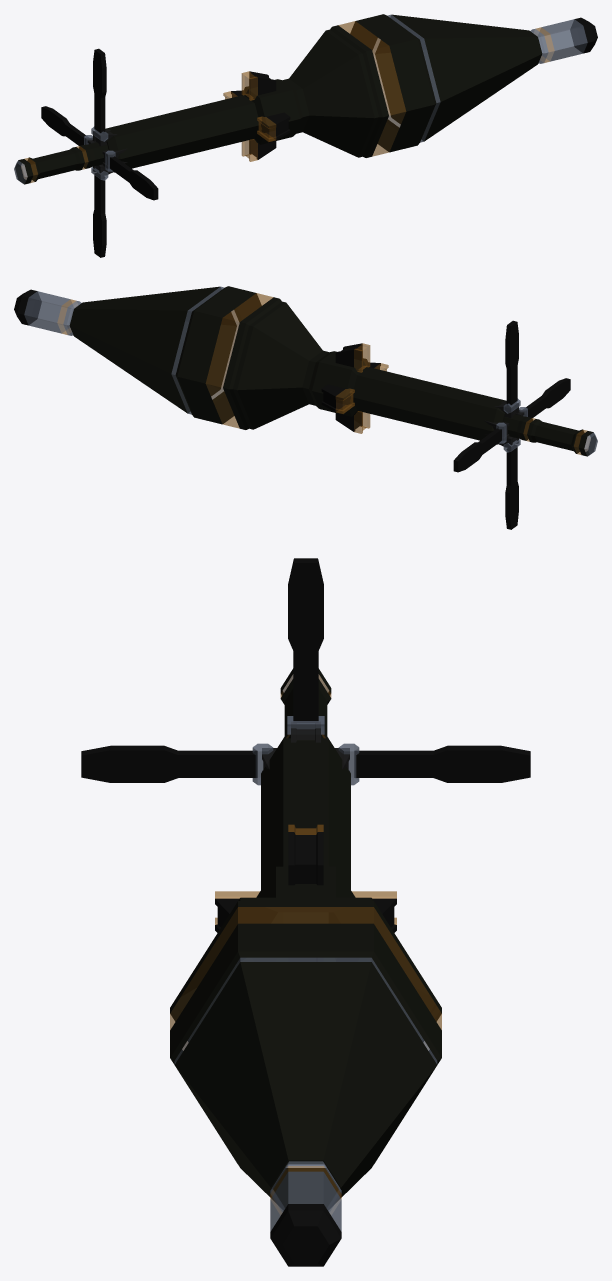
The model's file is rocket-launcher-projectile.obj.
3 views of the same model, one above another, from view 1: azimuth 30°, elevation 25°; view 2: azimuth 150°, elevation 25°; view 3: azimuth 270°, elevation 25° (orthographic). The views are drawn at different scales.
Parts seen in each view (by area): view 1: Cylinder.001_Cylinder.224, Cylinder.002_Cylinder.225, Cylinder.004_Cylinder.227, Cylinder.003_Cylinder.226, Cylinder.005_Cylinder.228; view 2: Cylinder.001_Cylinder.224, Cylinder.002_Cylinder.225, Cylinder.004_Cylinder.227, Cylinder.005_Cylinder.228, Cylinder.003_Cylinder.226; view 3: Cylinder.001_Cylinder.224, Cylinder.003_Cylinder.226, Cylinder.005_Cylinder.228, Cylinder.002_Cylinder.225.
Part boxes in pixels (<box>): Cylinder.001_Cylinder.224: <box>14,14,597,184</box>; Cylinder.002_Cylinder.225: <box>91,48,108,141</box>; Cylinder.004_Cylinder.227: <box>91,167,108,257</box>; Cylinder.003_Cylinder.226: <box>105,150,158,200</box>; Cylinder.005_Cylinder.228: <box>41,106,92,145</box>; Cylinder.001_Cylinder.224: <box>14,286,597,456</box>; Cylinder.002_Cylinder.225: <box>503,320,520,413</box>; Cylinder.004_Cylinder.227: <box>503,439,520,529</box>; Cylinder.005_Cylinder.228: <box>453,422,506,472</box>; Cylinder.003_Cylinder.226: <box>519,378,570,417</box>; Cylinder.001_Cylinder.224: <box>170,668,441,1266</box>; Cylinder.003_Cylinder.226: <box>81,743,273,785</box>; Cylinder.005_Cylinder.228: <box>338,743,530,785</box>; Cylinder.002_Cylinder.225: <box>287,558,324,734</box>.
Bounding box in the file's own units: 5.24 × 1.78 × 1.78.
